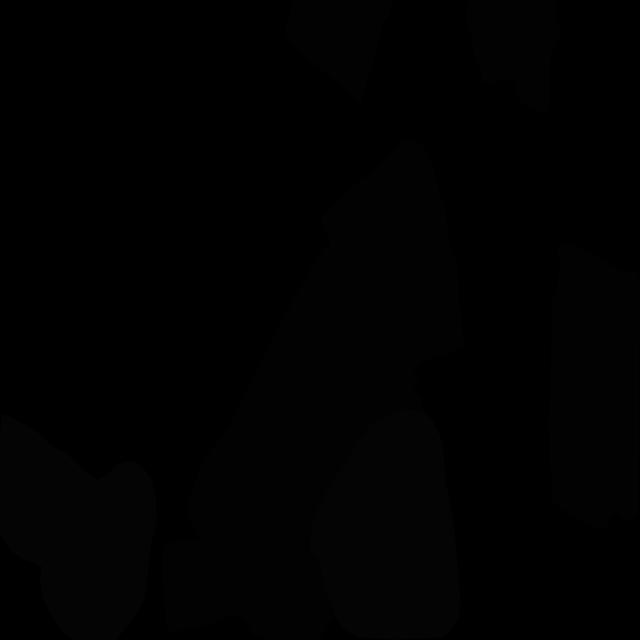cardboard: (186, 246, 446, 640), (321, 140, 466, 376), (548, 242, 640, 529), (284, 0, 394, 105), (466, 0, 560, 112), (162, 538, 240, 633)
soft_plastic: (0, 414, 157, 640), (310, 409, 461, 640)
